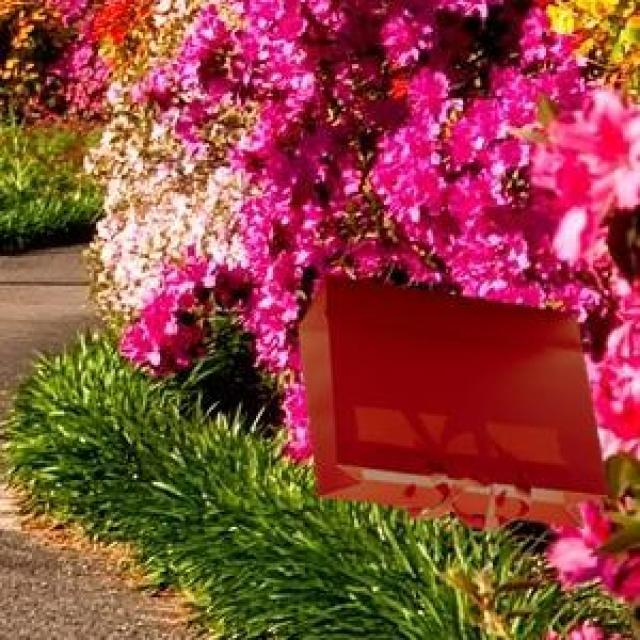paper: (294, 271, 604, 527)
